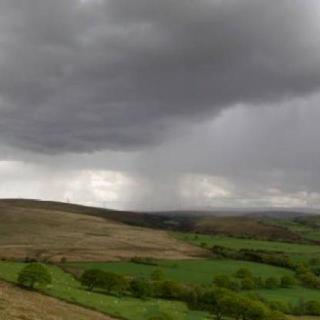Nimbostratus: (0, 0, 320, 209)
